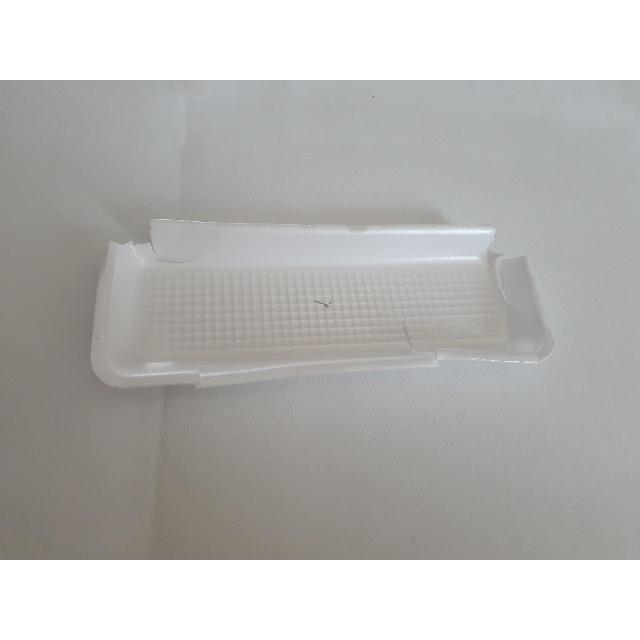Recipiente plastico: (91, 219, 552, 388)
